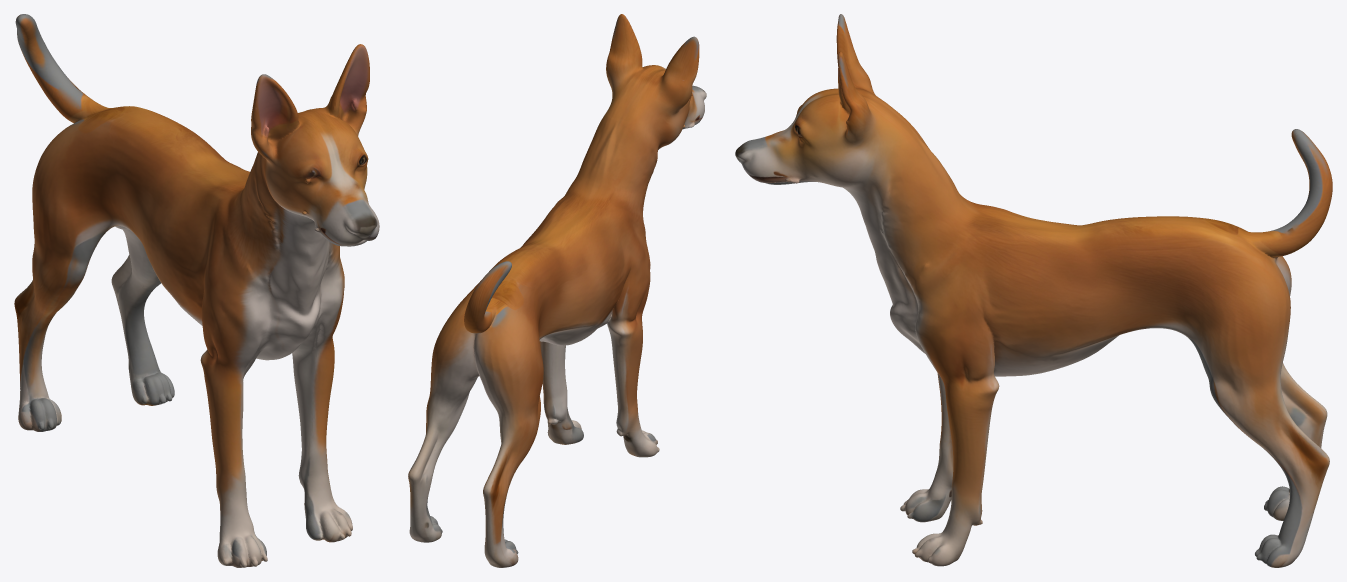
Rendered from aspin.glb.
3 renders of one model, left to right at view 1: azimuth 30°, elevation 25°; view 2: azimuth 150°, elevation 25°; view 3: azimuth 270°, elevation 25°, orthographic. The views are drawn at different scales.
Parts seen in each view (by area): view 1: tripo_node_5bf5df36-e29c-42a7-9214-055d021aa7a7; view 2: tripo_node_5bf5df36-e29c-42a7-9214-055d021aa7a7; view 3: tripo_node_5bf5df36-e29c-42a7-9214-055d021aa7a7.
Boxes of the visible parts, <box> form: tripo_node_5bf5df36-e29c-42a7-9214-055d021aa7a7: <box>14,14,379,567</box>; tripo_node_5bf5df36-e29c-42a7-9214-055d021aa7a7: <box>408,14,706,567</box>; tripo_node_5bf5df36-e29c-42a7-9214-055d021aa7a7: <box>735,14,1332,567</box>.
Bounding box in the file's own units: 0.2715 × 0.9225 × 1.
Materials: 1 (1 with a texture image).
